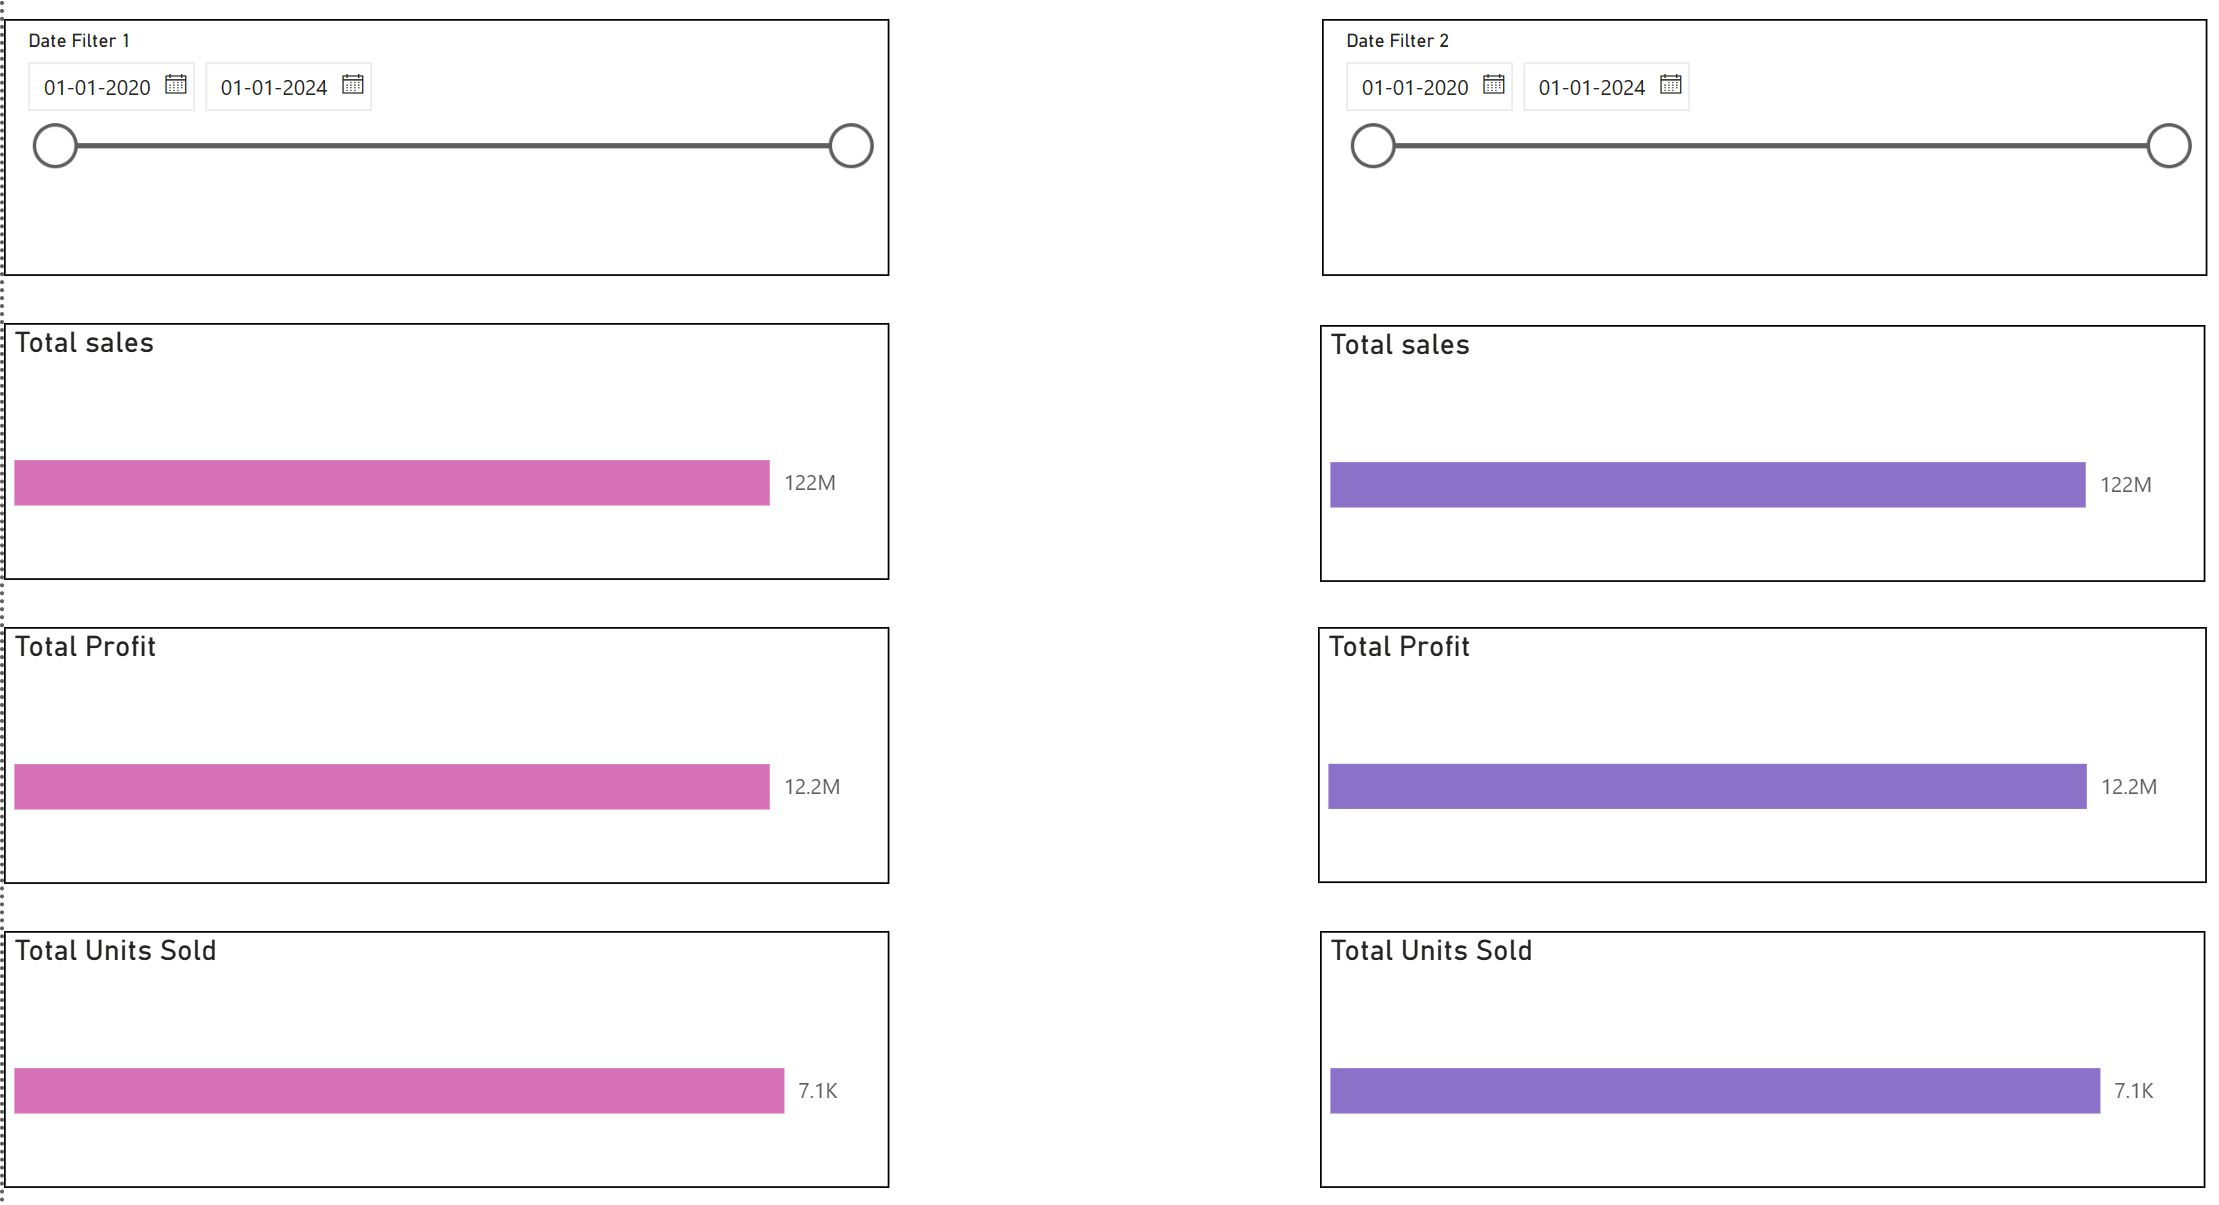

Layout of this report page (visuals, bound fields, positions):
{"tool":"powerbi","page":{"name":"Comparison Sales/Profit/Quantity-Edit Interactions","canvas":[1280,720],"ordinal":2},"visuals":[{"type":"slicer","fields":{"Values":["Fact Table.Date (dd/mm/yyyy)"]},"box":[0,17.8,510,148],"z":0},{"type":"slicer","fields":{"Values":["Fact Table.Date (dd/mm/yyyy)"]},"box":[759.2,17.3,510,148],"z":1000},{"type":"barChart","title":"Total sales","fields":{"Y":["Sum(Fact Table.Net  Sales)"]},"box":[0,192.9,510,148],"z":2000},{"type":"barChart","title":"Total Profit","fields":{"Y":["Sum(Fact Table.Profit)"]},"box":[0,368,510,148],"z":3000},{"type":"barChart","title":"Total Units Sold","fields":{"Y":["Sum(Fact Table.Units Sold)"]},"box":[0,543.1,510,148],"z":4000},{"type":"barChart","title":"Total sales","fields":{"Y":["Sum(Fact Table.Net  Sales)"]},"box":[758,193.5,510,148],"z":5000},{"type":"barChart","title":"Total Profit","fields":{"Y":["Sum(Fact Table.Profit)"]},"box":[756.9,367.5,512,147.5],"z":6000},{"type":"barChart","title":"Total Units Sold","fields":{"Y":["Sum(Fact Table.Units Sold)"]},"box":[758,542.6,510,148],"z":7000}]}

Visuals, with their boxes in screenshot pixels (x1, y1, x2, y2):
slicer - Fact Table.Date (dd/mm/yyyy): locate(17, 25, 892, 279)
slicer - Fact Table.Date (dd/mm/yyyy): locate(1319, 24, 2194, 278)
"Total sales" barChart: locate(17, 325, 892, 579)
"Total Profit" barChart: locate(17, 625, 892, 879)
"Total Units Sold" barChart: locate(17, 926, 892, 1179)
"Total sales" barChart: locate(1317, 326, 2192, 580)
"Total Profit" barChart: locate(1315, 624, 2194, 877)
"Total Units Sold" barChart: locate(1317, 925, 2192, 1179)
